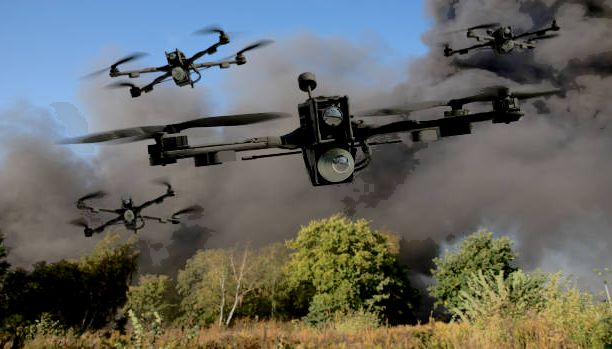Drone: (55, 71, 567, 188), (76, 22, 275, 99), (68, 180, 203, 240), (438, 15, 567, 61)
